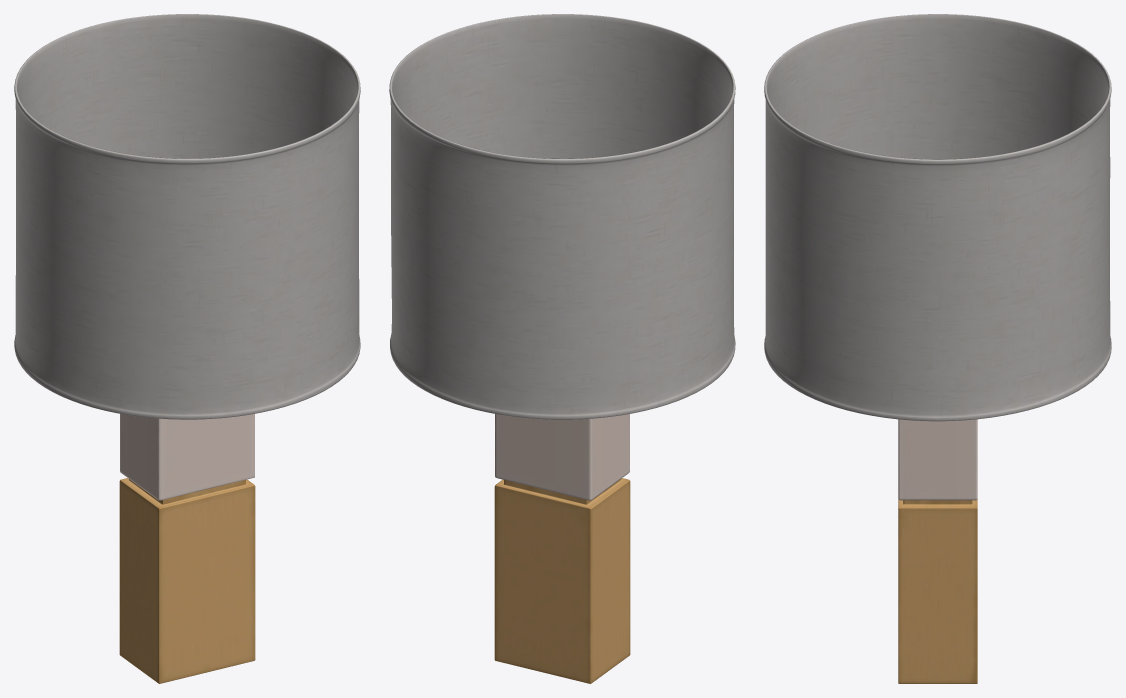
File: abo-B075X2R3BX.glb
3 renders of one model, left to right at view 1: azimuth 30°, elevation 25°; view 2: azimuth 150°, elevation 25°; view 3: azimuth 270°, elevation 25°, orthographic.
Size of the model in its own units: 0.229 by 0.417 by 0.229.
1 material, 1 textured.
